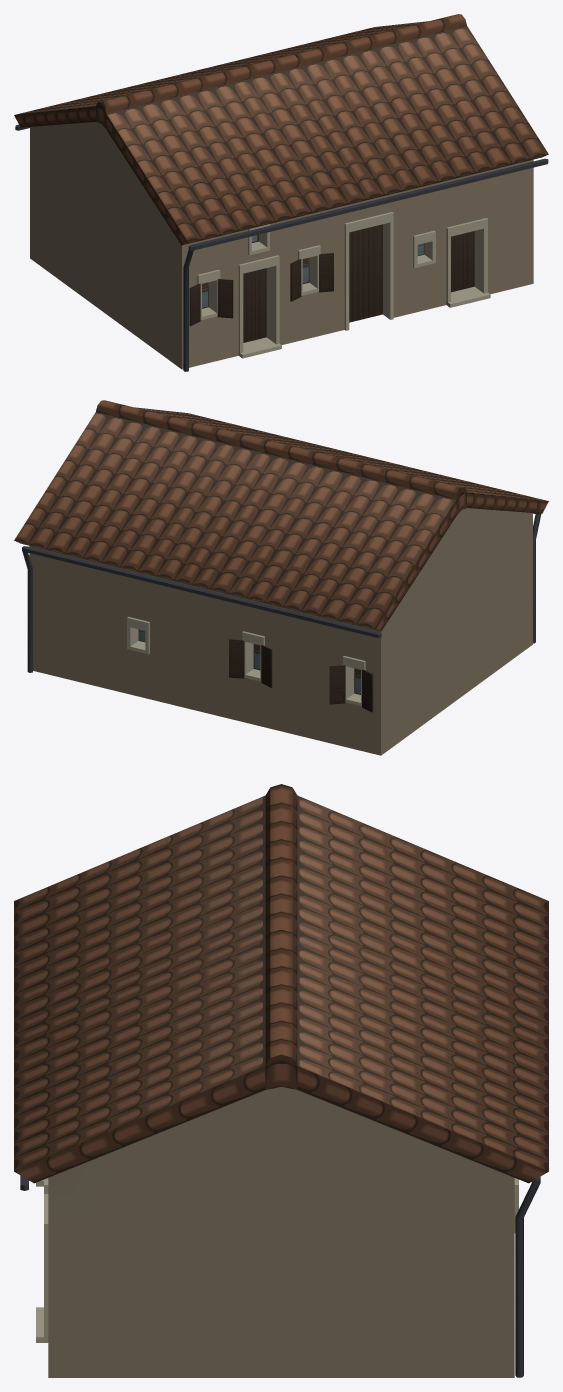
The model's file is House.fbx.
The picture shows the model from 3 angles, top to bottom: view 1: azimuth 30°, elevation 25°; view 2: azimuth 150°, elevation 25°; view 3: azimuth 270°, elevation 25°; orthographic projection. The views are drawn at different scales.
Visible parts, largest first — view 1: Roof, Walls, Doors / windows, Gutters, Blinds; view 2: Roof, Walls, Gutters, Blinds, Doors / windows; view 3: Roof, Walls, Gutters.
Boxes of the visible parts, <box> form: Roof: <box>14,14,548,245</box>; Walls: <box>30,122,533,369</box>; Doors / windows: <box>202,224,474,342</box>; Gutters: <box>15,124,548,371</box>; Blinds: <box>189,253,333,326</box>; Roof: <box>14,400,548,631</box>; Walls: <box>29,508,532,755</box>; Gutters: <box>22,513,541,672</box>; Blinds: <box>229,639,373,712</box>; Doors / windows: <box>138,629,360,694</box>; Roof: <box>14,784,548,1183</box>; Walls: <box>36,1086,518,1377</box>; Gutters: <box>20,1175,540,1377</box>.
Bounding box in the file's own units: 556 × 308 × 458.
